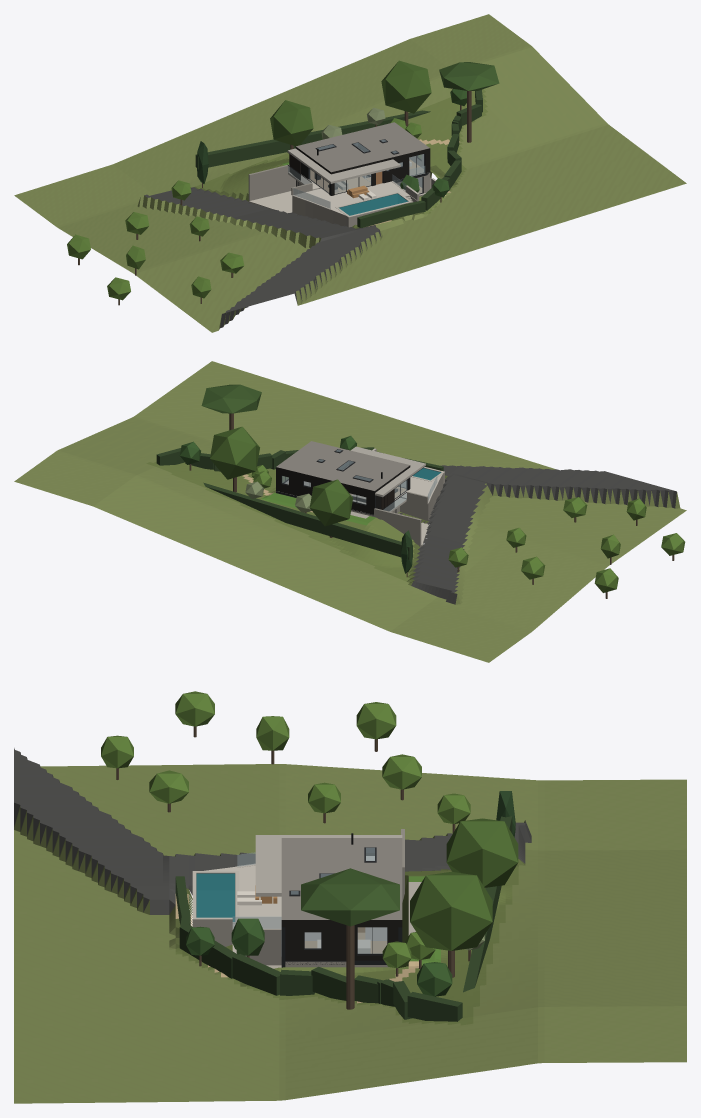
The model's file is casa_plinto.dae.
3 renders of one model, top to bottom at view 1: azimuth 30°, elevation 25°; view 2: azimuth 150°, elevation 25°; view 3: azimuth 270°, elevation 25°, orthographic. The views are drawn at different scales.
Parts seen in each view (by area): view 1: 01 Terreno, 15 Vegetação, 12 Cobertura e claraboias, 03 Deck e piscina, 02 Muros exteriores e pátios, 10 R/C · caixilharia e vidros, 13 Pala, 08 R/C · paredes, 09 R/C · pavimentos, 14 Mobiliário; view 2: 01 Terreno, 15 Vegetação, 12 Cobertura e claraboias, 03 Deck e piscina, 08 R/C · paredes, 02 Muros exteriores e pátios, 13 Pala, 10 R/C · caixilharia e vidros; view 3: 01 Terreno, 15 Vegetação, 12 Cobertura e claraboias, 03 Deck e piscina, 08 R/C · paredes, 13 Pala, 02 Muros exteriores e pátios, 10 R/C · caixilharia e vidros, 14 Mobiliário.
Boxes of the visible parts, bbox=[...] form: 01 Terreno: bbox=[14, 14, 686, 332]; 15 Vegetação: bbox=[67, 60, 499, 305]; 12 Cobertura e claraboias: bbox=[295, 122, 430, 174]; 03 Deck e piscina: bbox=[292, 181, 416, 227]; 02 Muros exteriores e pátios: bbox=[248, 164, 436, 213]; 10 R/C · caixilharia e vidros: bbox=[287, 152, 425, 208]; 13 Pala: bbox=[287, 148, 400, 183]; 08 R/C · paredes: bbox=[301, 148, 430, 195]; 09 R/C · pavimentos: bbox=[310, 159, 423, 193]; 14 Mobiliário: bbox=[310, 149, 411, 200]; 01 Terreno: bbox=[14, 361, 686, 662]; 15 Vegetação: bbox=[156, 384, 685, 598]; 12 Cobertura e claraboias: bbox=[276, 441, 410, 495]; 03 Deck e piscina: bbox=[400, 467, 444, 523]; 08 R/C · paredes: bbox=[276, 467, 410, 514]; 02 Muros exteriores e pátios: bbox=[372, 448, 437, 547]; 13 Pala: bbox=[351, 446, 425, 497]; 10 R/C · caixilharia e vidros: bbox=[281, 466, 437, 511]; 01 Terreno: bbox=[14, 748, 686, 1103]; 15 Vegetação: bbox=[101, 691, 518, 1021]; 12 Cobertura e claraboias: bbox=[281, 838, 402, 927]; 03 Deck e piscina: bbox=[192, 865, 281, 927]; 08 R/C · paredes: bbox=[281, 856, 402, 960]; 13 Pala: bbox=[255, 835, 402, 896]; 02 Muros exteriores e pátios: bbox=[192, 829, 404, 968]; 10 R/C · caixilharia e vidros: bbox=[232, 852, 387, 955]; 14 Mobiliário: bbox=[237, 833, 370, 953].
Size of the model in its own units: 79.53 by 52 by 16.32.
